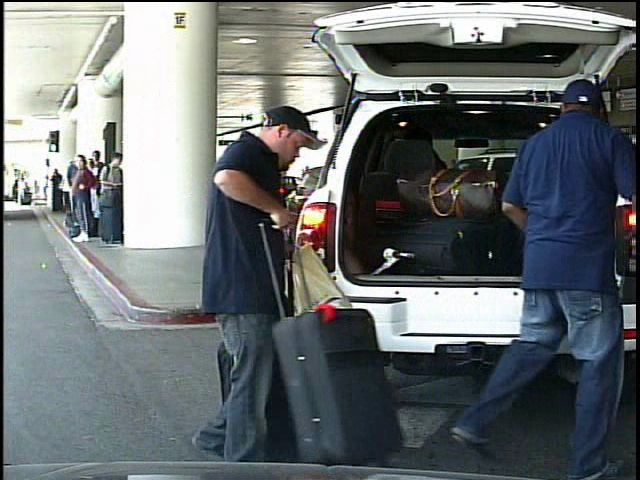person: (452, 77, 631, 479), (169, 95, 311, 463), (17, 175, 28, 206)
